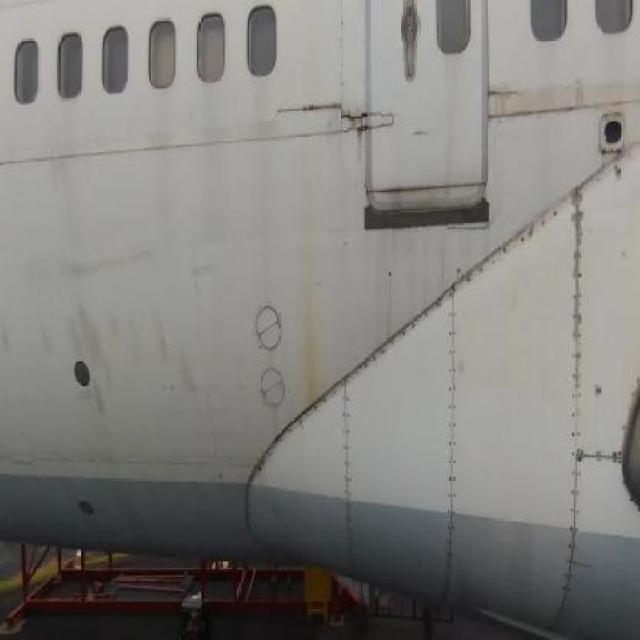Missing-Rivet: (562, 178, 584, 602), (350, 298, 441, 387), (465, 208, 560, 287), (443, 276, 465, 578), (271, 390, 338, 470), (339, 372, 358, 536), (589, 434, 625, 484)
Rust: (290, 193, 330, 418), (347, 89, 378, 171)
Scartch: (2, 239, 226, 433), (488, 81, 595, 150)
